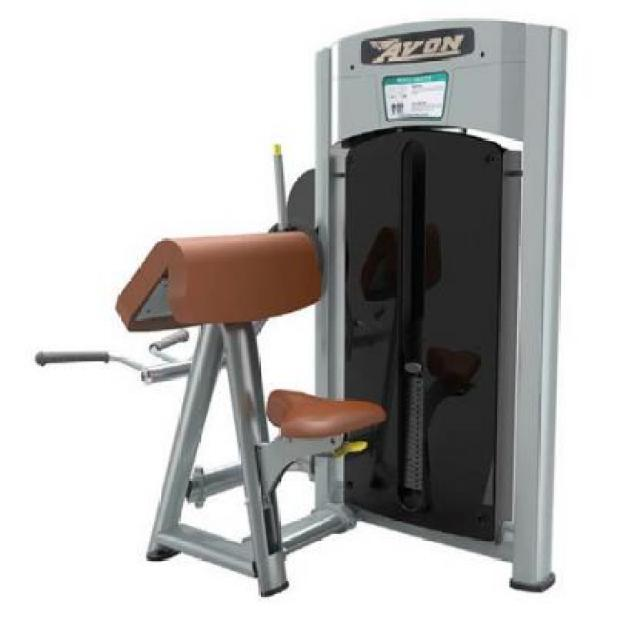arm curl machine: (34, 18, 569, 596)
